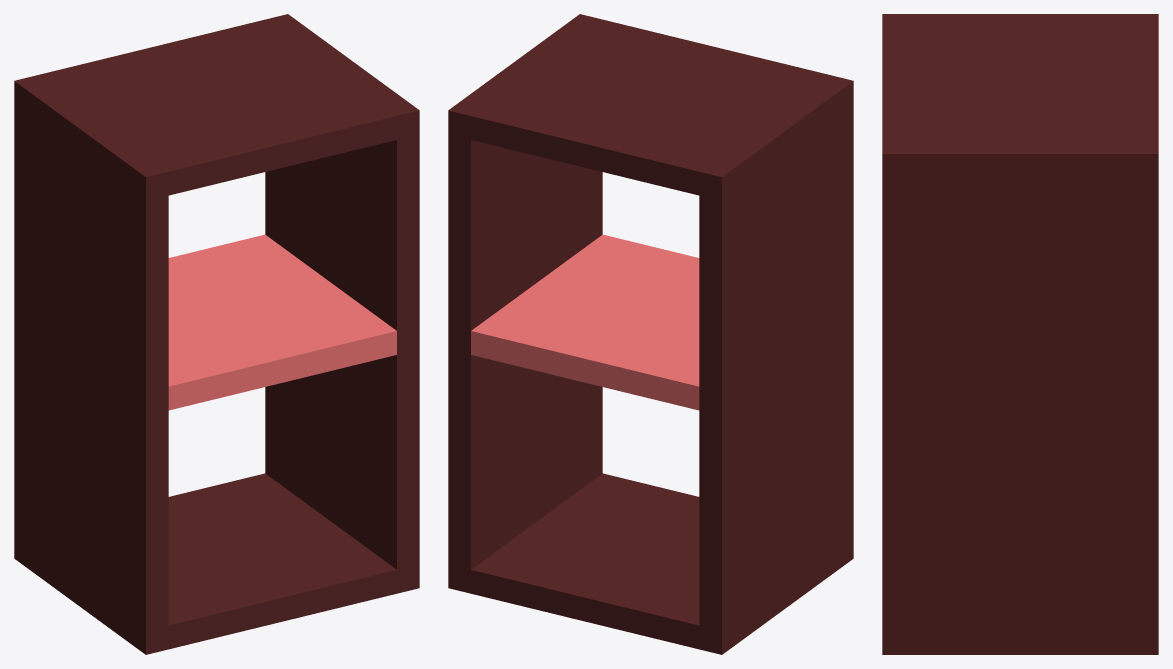
File: Bookcase.fbx
3 renders of one model, left to right at view 1: azimuth 30°, elevation 25°; view 2: azimuth 150°, elevation 25°; view 3: azimuth 270°, elevation 25°, orthographic. The views are drawn at different scales.
Visible parts, largest first — view 1: block_default_4, block_default_2, block_default_5, block_default_1, block_default_6, block_default_0, block_default_3; view 2: block_default_4, block_default_2, block_default_5, block_default_1, block_default_6, block_default_0, block_default_3; view 3: block_default_3, block_default_0, block_default_5, block_default_4.
Boxes of the visible parts, x1=… form: block_default_4: x1=14, y1=75, x2=168, y2=415; block_default_2: x1=14, y1=320, x2=168, y2=654; block_default_5: x1=37, y1=19, x2=396, y2=195; block_default_1: x1=168, y1=473, x2=396, y2=649; block_default_6: x1=168, y1=234, x2=396, y2=410; block_default_0: x1=265, y1=349, x2=419, y2=593; block_default_3: x1=265, y1=14, x2=419, y2=354; block_default_4: x1=699, y1=75, x2=853, y2=415; block_default_2: x1=699, y1=320, x2=853, y2=654; block_default_5: x1=471, y1=19, x2=830, y2=195; block_default_1: x1=471, y1=473, x2=699, y2=649; block_default_6: x1=471, y1=234, x2=699, y2=410; block_default_0: x1=448, y1=349, x2=602, y2=593; block_default_3: x1=448, y1=14, x2=602, y2=354; block_default_3: x1=882, y1=142, x2=1158, y2=404; block_default_0: x1=882, y1=404, x2=1158, y2=654; block_default_5: x1=882, y1=25, x2=1158, y2=142; block_default_4: x1=882, y1=14, x2=1158, y2=25.
Size of the model in its own units: 12 by 20 by 10.
